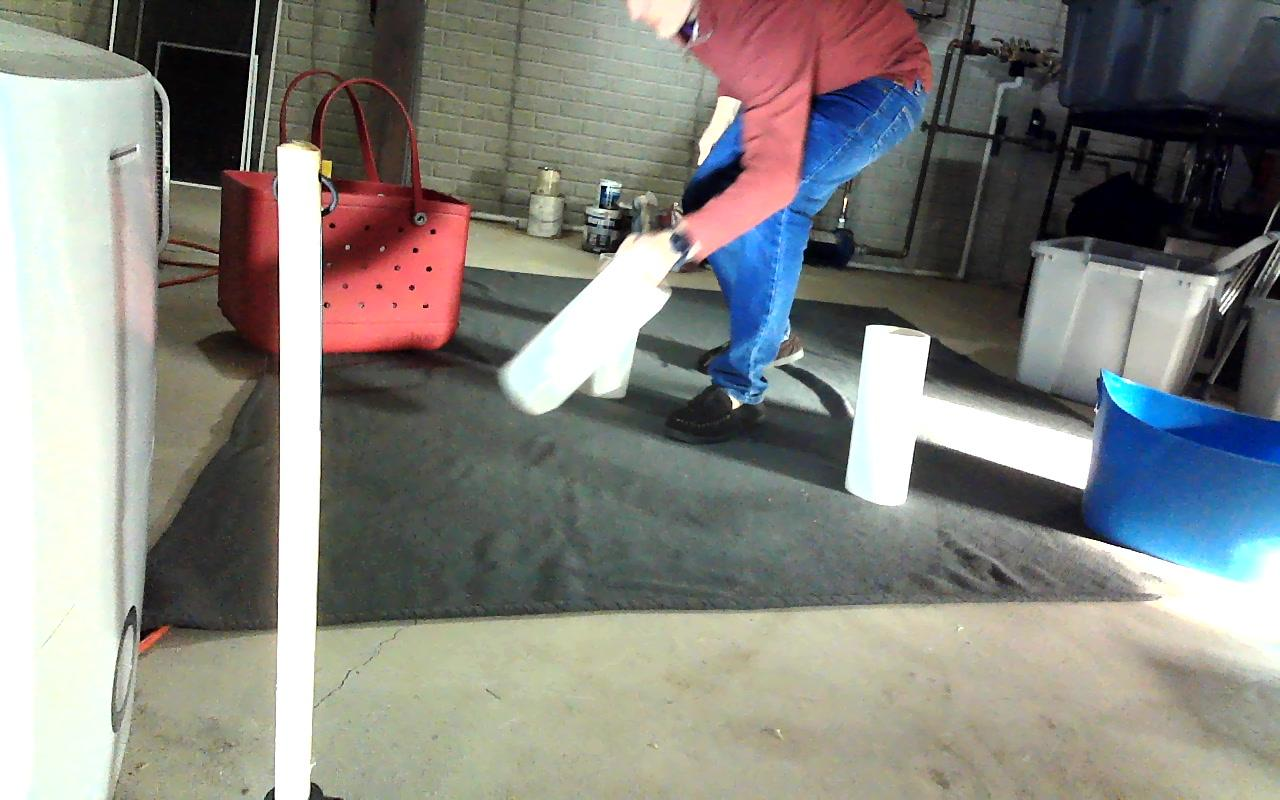coral: (497, 260, 672, 414), (844, 324, 930, 503)
